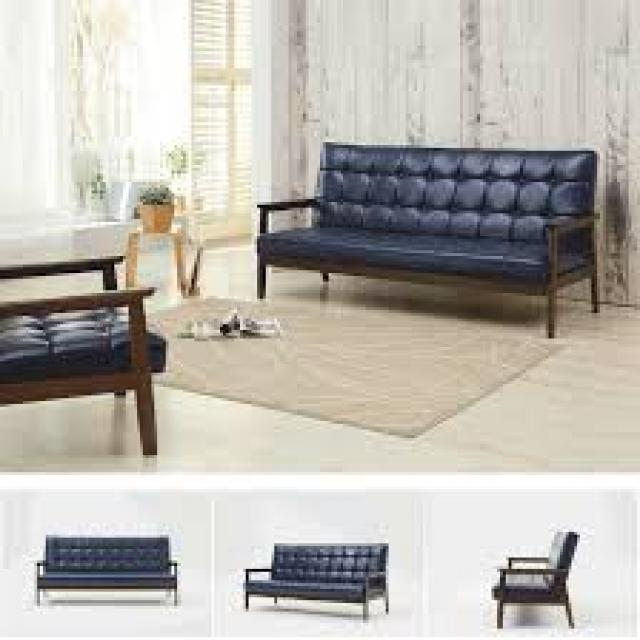Sofa: (234, 123, 629, 362), (0, 244, 186, 466), (233, 517, 412, 634), (26, 525, 198, 619)
